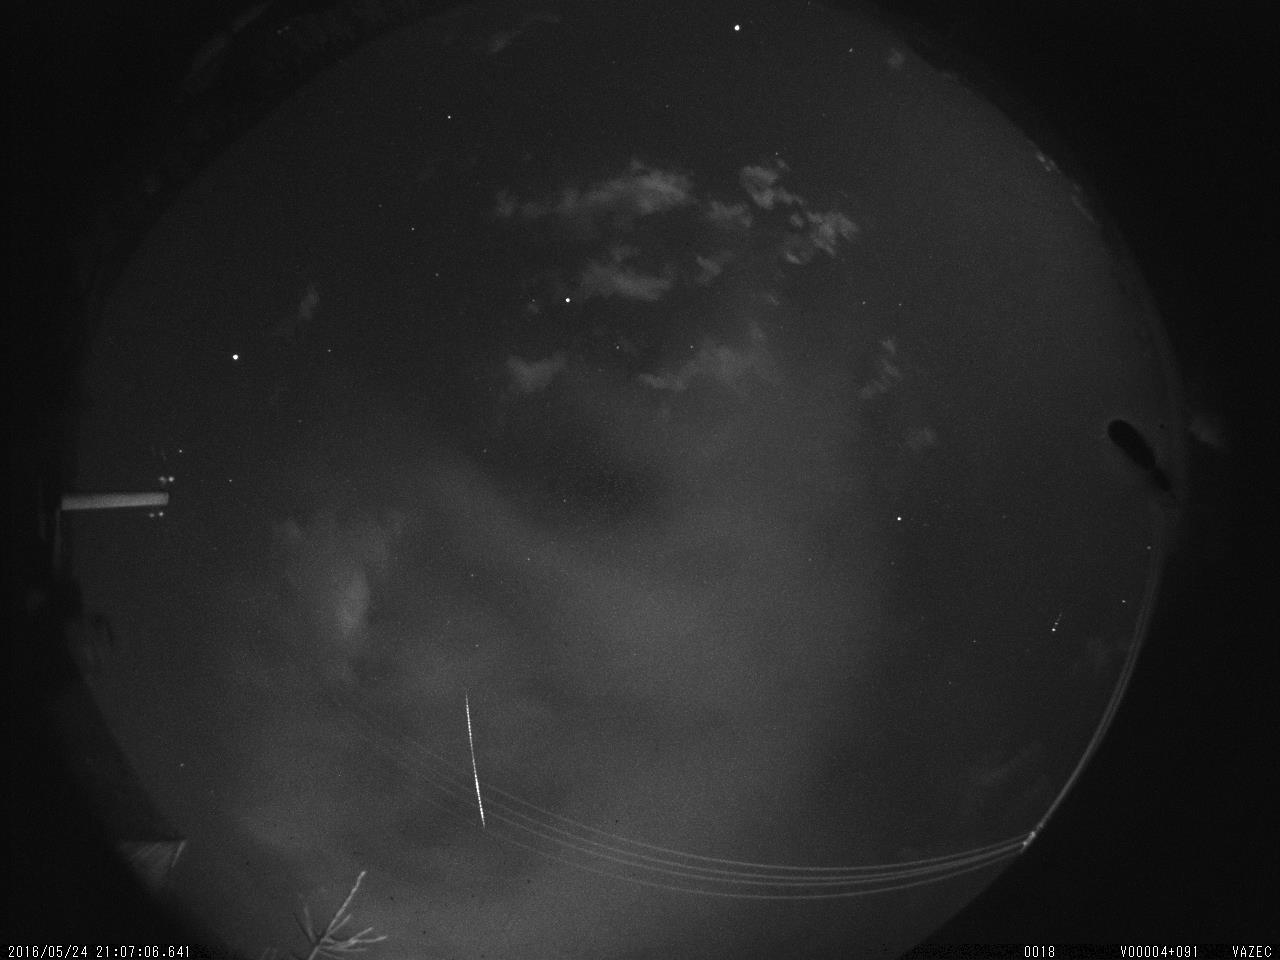meteor: (450, 684, 498, 834)
